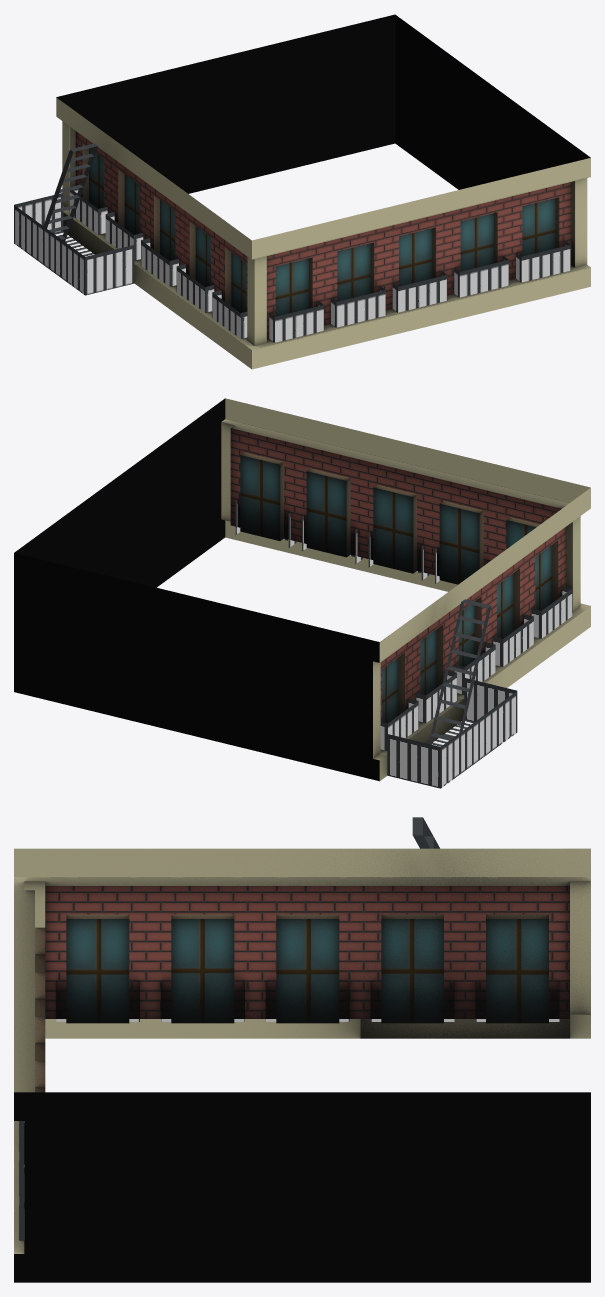
The model's file is building corner floor.fbx.
3 renders of one model, top to bottom at view 1: azimuth 30°, elevation 25°; view 2: azimuth 150°, elevation 25°; view 3: azimuth 270°, elevation 25°, orthographic. The views are drawn at different scales.
Visible parts, largest first — view 1: Building Corner Floor.001; view 2: Building Corner Floor.001; view 3: Building Corner Floor.001.
Part boxes in pixels (x1,y1,x2,y2): Building Corner Floor.001: (14, 14, 590, 369); Building Corner Floor.001: (14, 398, 590, 788); Building Corner Floor.001: (14, 817, 590, 1282).
Size of the model in its own units: 630 by 200 by 550.
